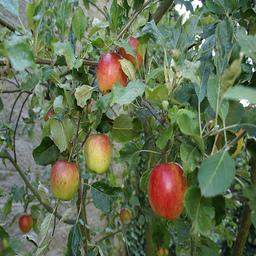apple: (145, 162, 186, 220), (95, 52, 128, 93), (49, 159, 80, 200), (83, 133, 112, 173), (18, 214, 33, 233)
